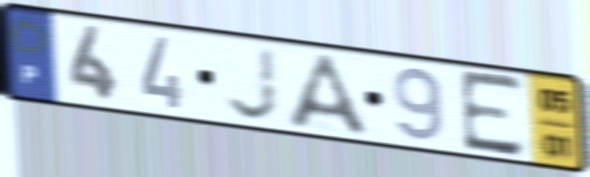4: (66, 22, 122, 105), (138, 34, 186, 111)
9: (390, 65, 448, 146)
A: (283, 50, 375, 141)
E: (456, 67, 527, 161)
J: (223, 44, 283, 124)
